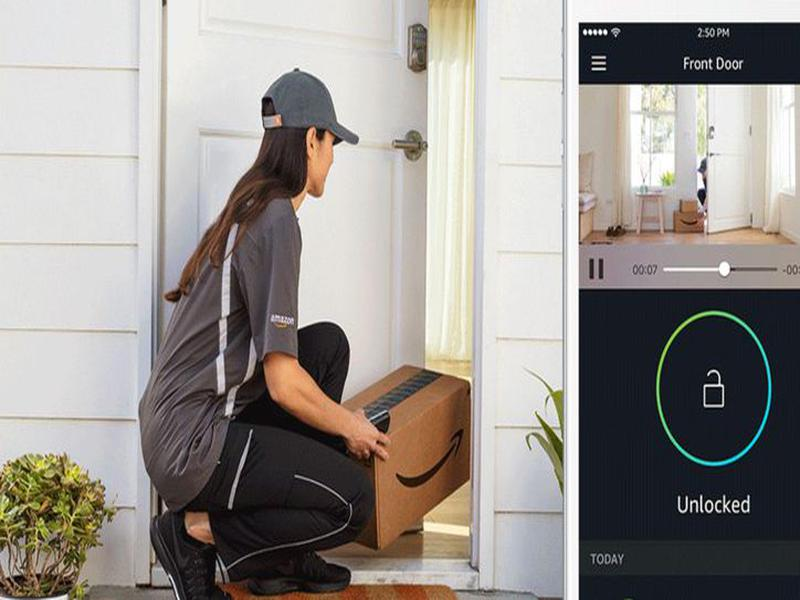package: (312, 357, 477, 557)
